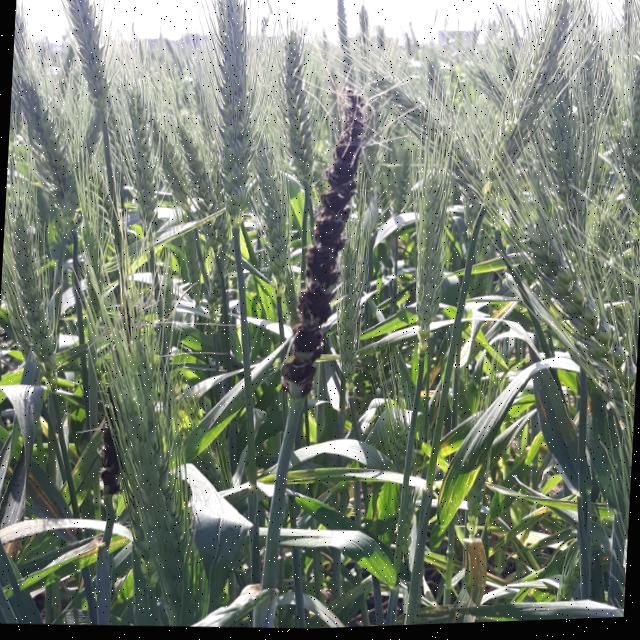loose_charred: (255, 65, 426, 449), (82, 414, 138, 521)
yellow_rust: (0, 438, 91, 546), (422, 443, 492, 546), (442, 537, 496, 627), (503, 483, 591, 530), (524, 386, 585, 449), (62, 528, 146, 568), (479, 292, 534, 343), (483, 575, 558, 609), (0, 520, 49, 572), (356, 602, 447, 630), (412, 350, 452, 413), (382, 226, 427, 262)
